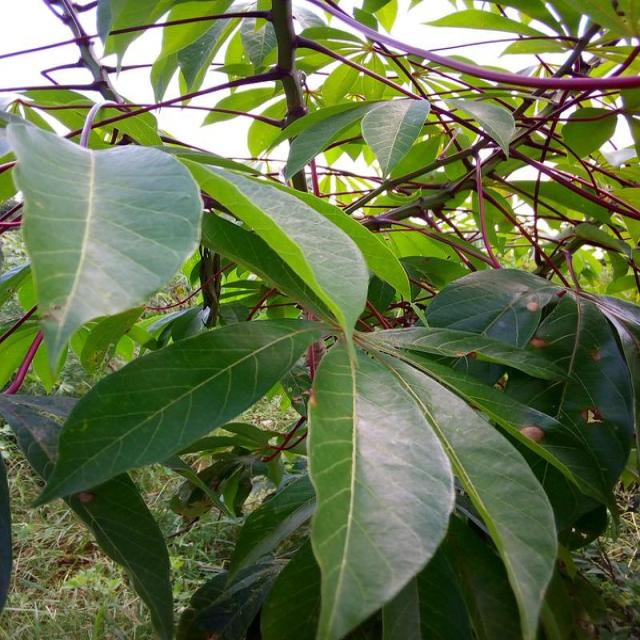cassava leaf: (28, 315, 328, 511), (4, 112, 204, 389), (305, 335, 455, 638)
